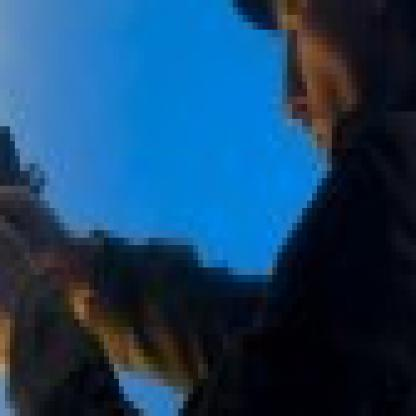gun: (0, 97, 79, 349)
